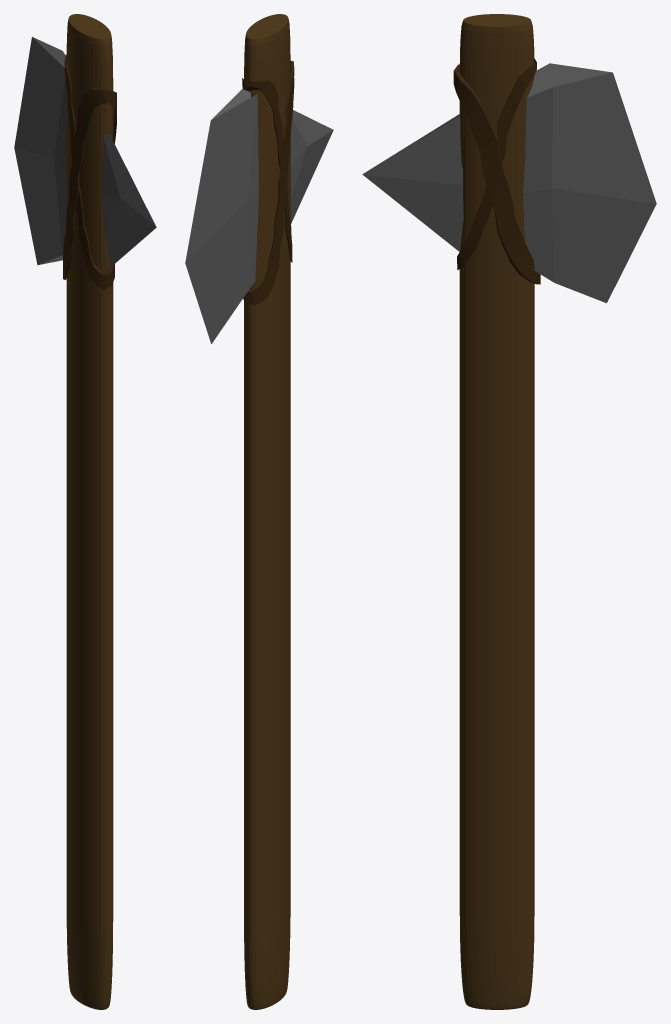
File: Stone Axe_LII.fbx
The picture shows the model from 3 angles, left to right: view 1: azimuth 30°, elevation 25°; view 2: azimuth 150°, elevation 25°; view 3: azimuth 270°, elevation 25°; orthographic projection.
Visible parts, largest first — view 1: Handle, Hand Axe, Binding1, Binding 2; view 2: Handle, Hand Axe, Binding1, Binding 2; view 3: Handle, Hand Axe, Binding1, Binding 2.
Part boxes in pixels (box(x1,y1,x2,y2)): Handle: box(66, 14, 113, 1009); Hand Axe: box(14, 37, 156, 267); Binding1: box(63, 88, 116, 279); Binding 2: box(64, 54, 114, 289); Handle: box(244, 14, 290, 1009); Hand Axe: box(185, 89, 333, 343); Binding1: box(243, 61, 294, 304); Binding 2: box(242, 78, 292, 262); Handle: box(459, 14, 534, 1009); Hand Axe: box(362, 63, 656, 303); Binding1: box(453, 64, 540, 284); Binding 2: box(457, 58, 536, 269).
Size of the model in its own units: 1.4 by 38.96 by 10.57.
